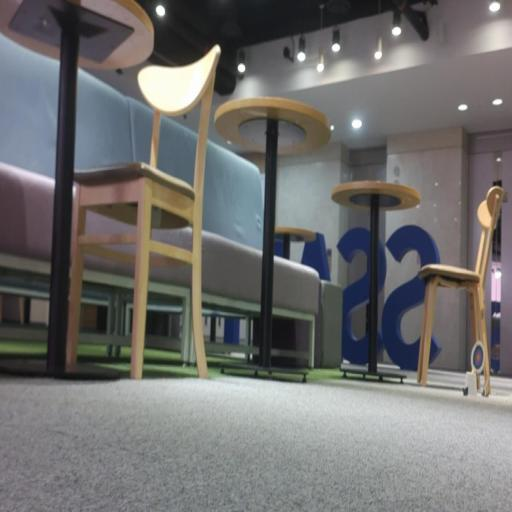target: (472, 341, 486, 373)
